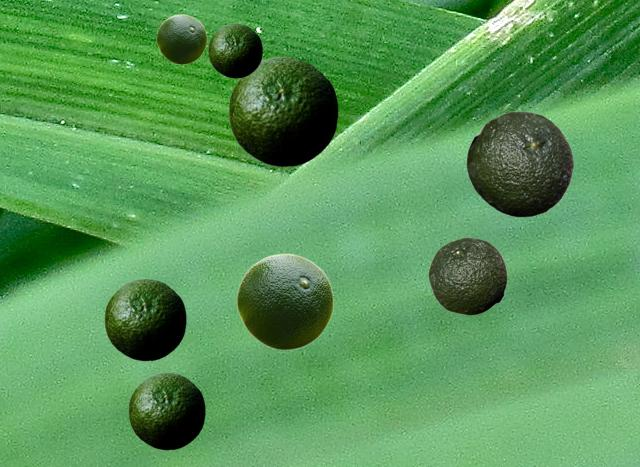calamansi: (228, 56, 337, 166), (466, 111, 573, 216), (236, 253, 333, 349), (104, 278, 185, 360), (428, 237, 506, 314), (128, 372, 204, 449), (208, 23, 261, 77), (156, 14, 206, 63)
